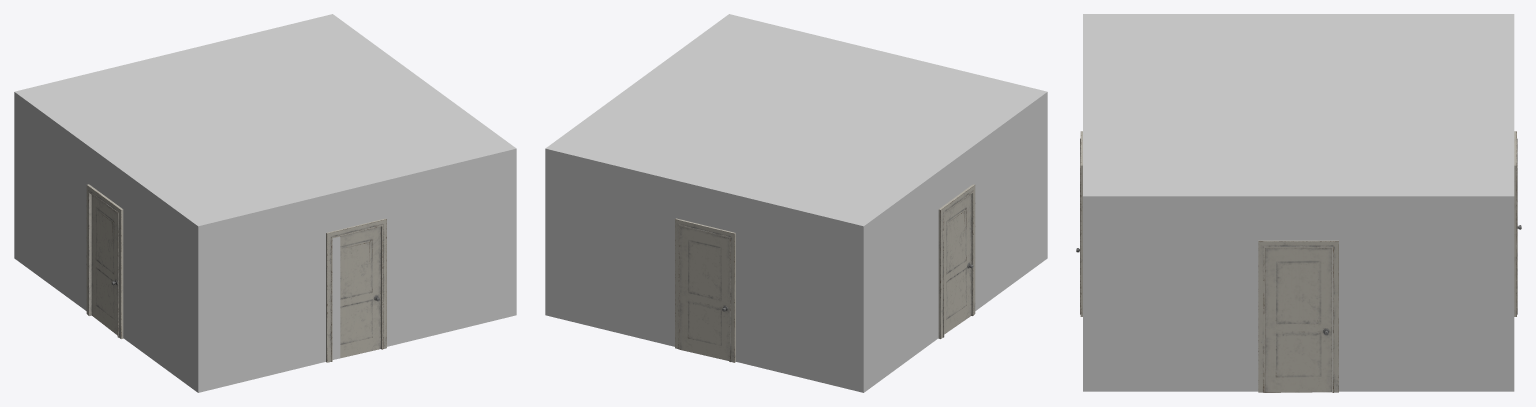
Rendered from room_example1.fbx.
3 views of the same model, side by side, from view 1: azimuth 30°, elevation 25°; view 2: azimuth 150°, elevation 25°; view 3: azimuth 270°, elevation 25° (orthographic). The views are drawn at different scales.
Visible parts, largest first — view 1: Cube, Object_117.003, Object_117.002, Object_113.003, Object_113.002; view 2: Cube, Object_117.001, Object_117.002, Object_113.001, Object_113.002; view 3: Cube, Object_117, Object_113, Object_113.001, Object_113.003.
Boxes of the visible parts, box(x1,y1,x2,y2) form: Cube: box(14, 14, 516, 392); Object_117.003: box(340, 226, 380, 358); Object_117.002: box(91, 195, 117, 335); Object_113.003: box(326, 218, 386, 362); Object_113.002: box(86, 184, 123, 338); Cube: box(545, 14, 1047, 392); Object_117.001: box(679, 226, 729, 360); Object_117.002: box(944, 194, 973, 334); Object_113.001: box(675, 218, 735, 362); Object_113.002: box(938, 184, 975, 338); Cube: box(1083, 14, 1514, 391); Object_117: box(1265, 248, 1331, 392); Object_113: box(1258, 240, 1338, 392); Object_113.001: box(1514, 131, 1517, 316); Object_113.003: box(1080, 131, 1082, 316).
Size of the model in its own units: 619 by 301 by 619.
Materials: 1 (1 with a texture image).
